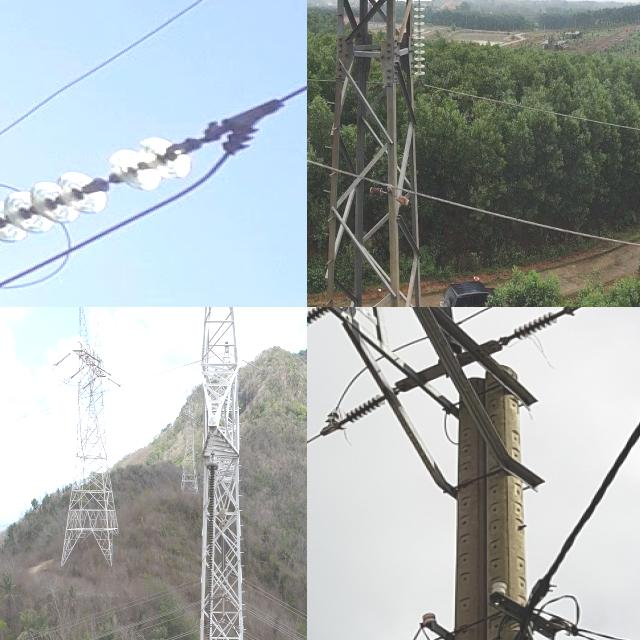杆塔: (307, 0, 443, 307), (197, 307, 245, 640), (67, 307, 114, 568), (179, 368, 196, 492)
正常绝缘子: (0, 96, 247, 253), (321, 373, 409, 444), (501, 307, 572, 350), (407, 0, 429, 91), (307, 307, 340, 333)
绝缘子破损: (88, 171, 113, 193)
